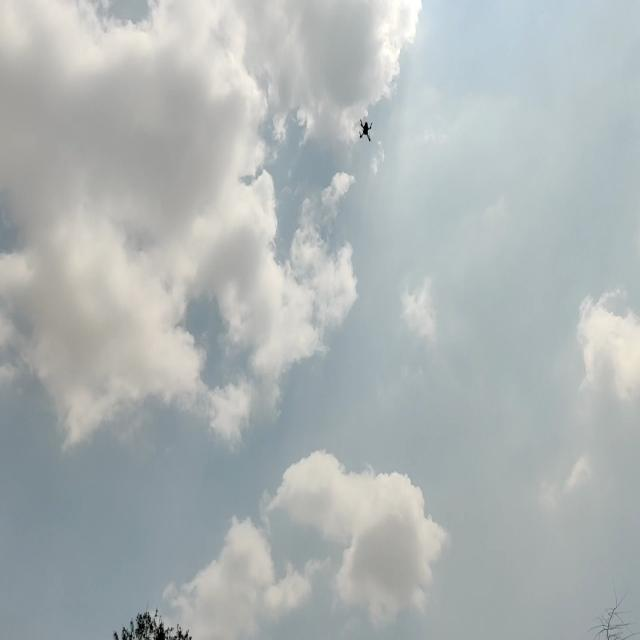drone: (354, 110, 378, 146)
